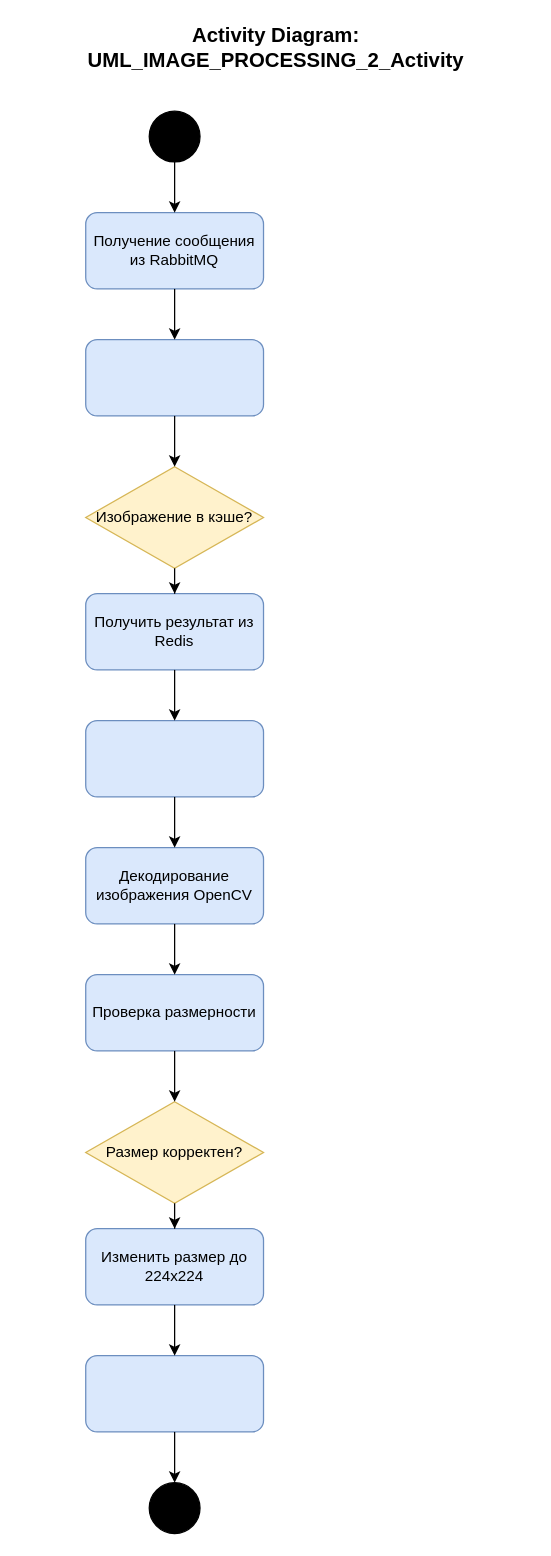
Image size: 551x1556. Some labels were removed from this diagram. The box of each missing label's shape, as (x1, y1, x2, y2) in pixels:
Вернуть результат: (84, 719, 264, 797)
Загрузка изображения из S3: (84, 338, 264, 416)
Нормализация пикселей: (84, 1354, 264, 1432)
